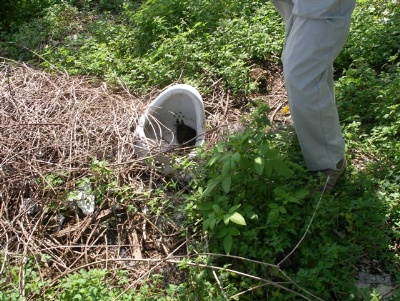toilet: (135, 83, 207, 178)
